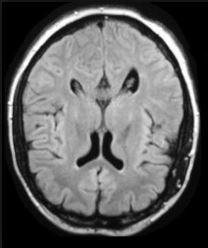Normal_Brain: (17, 1, 208, 248)
